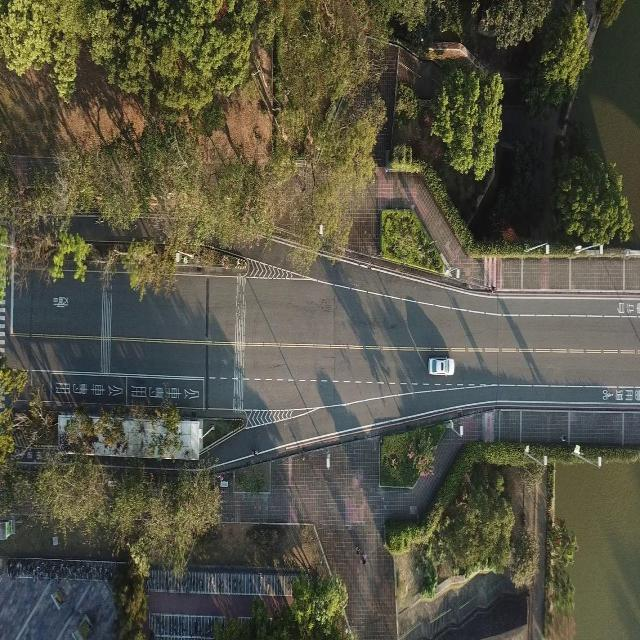car: (427, 356, 454, 376)
